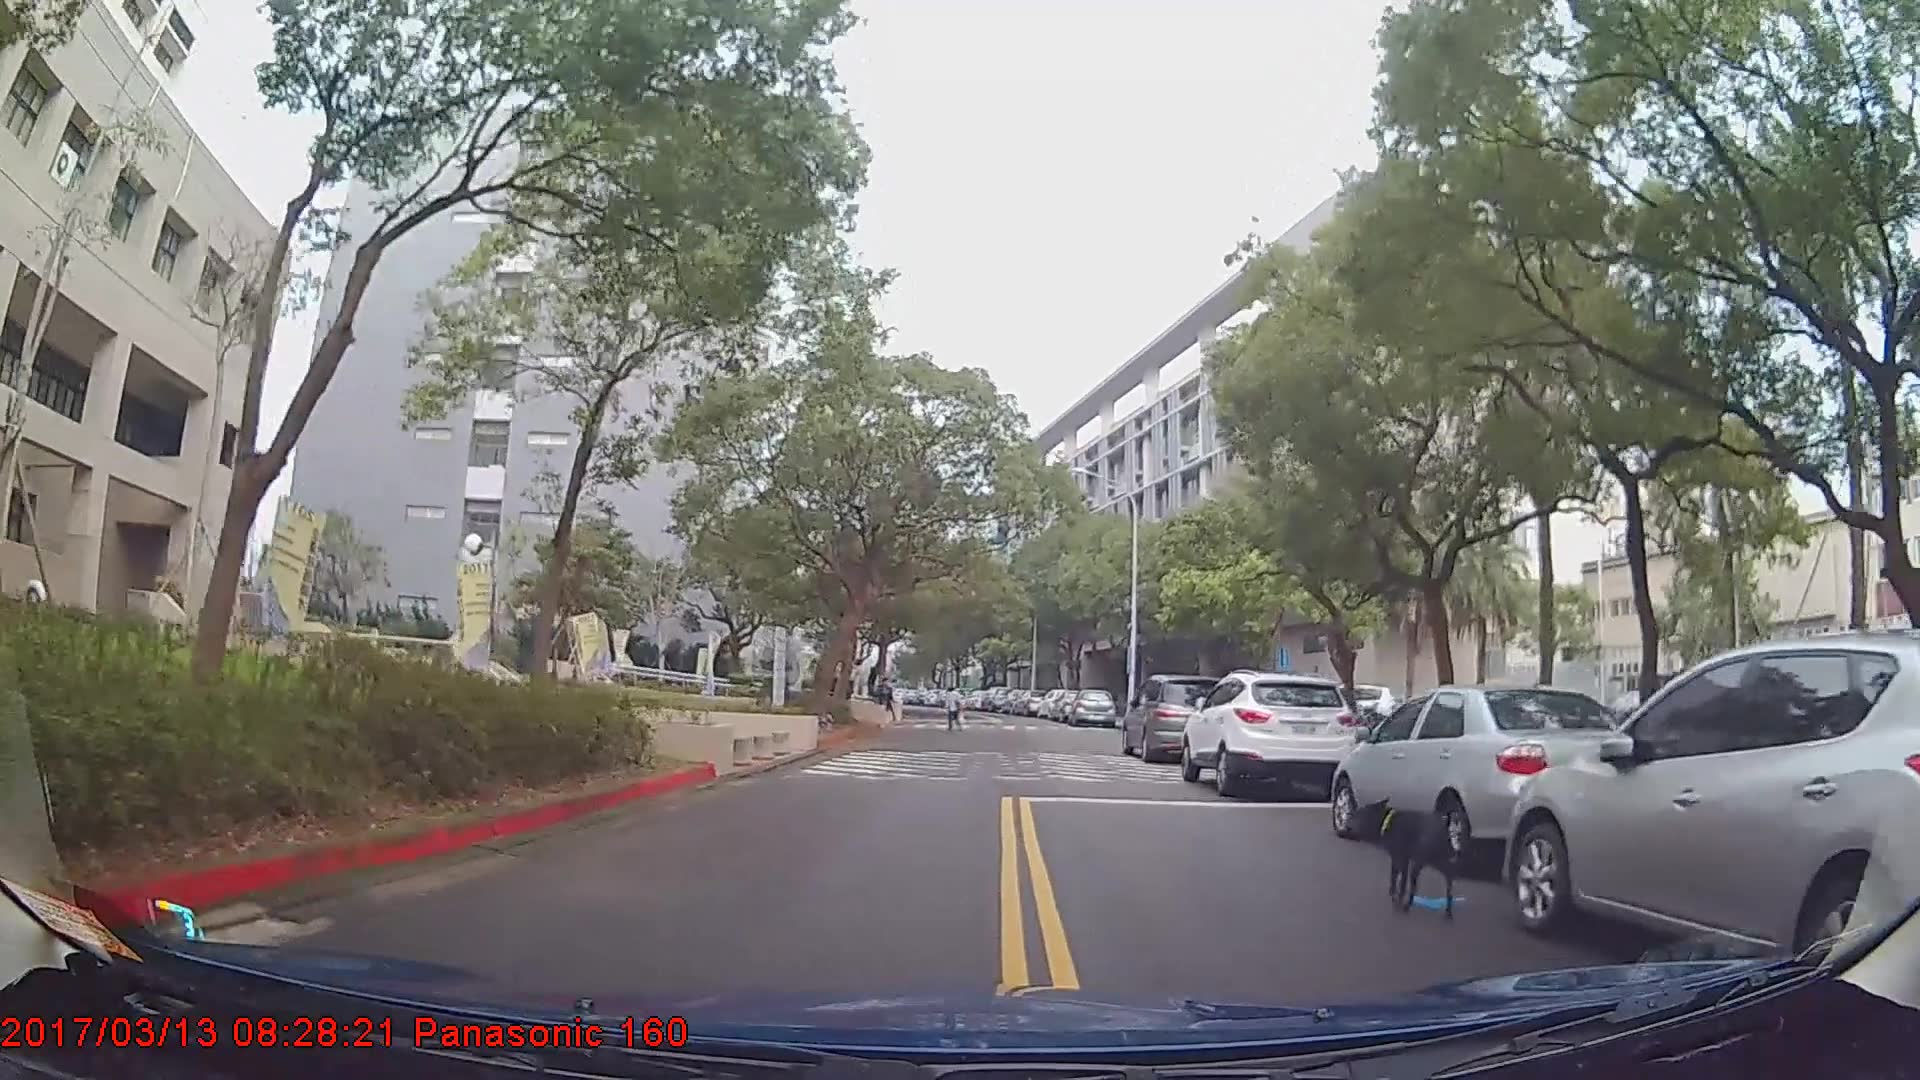pedestrian: (942, 686, 966, 734)
vehicle: (1502, 631, 1920, 992), (1335, 682, 1657, 871), (1179, 668, 1359, 797), (1119, 671, 1240, 758), (1067, 684, 1115, 727), (980, 685, 1011, 712)
